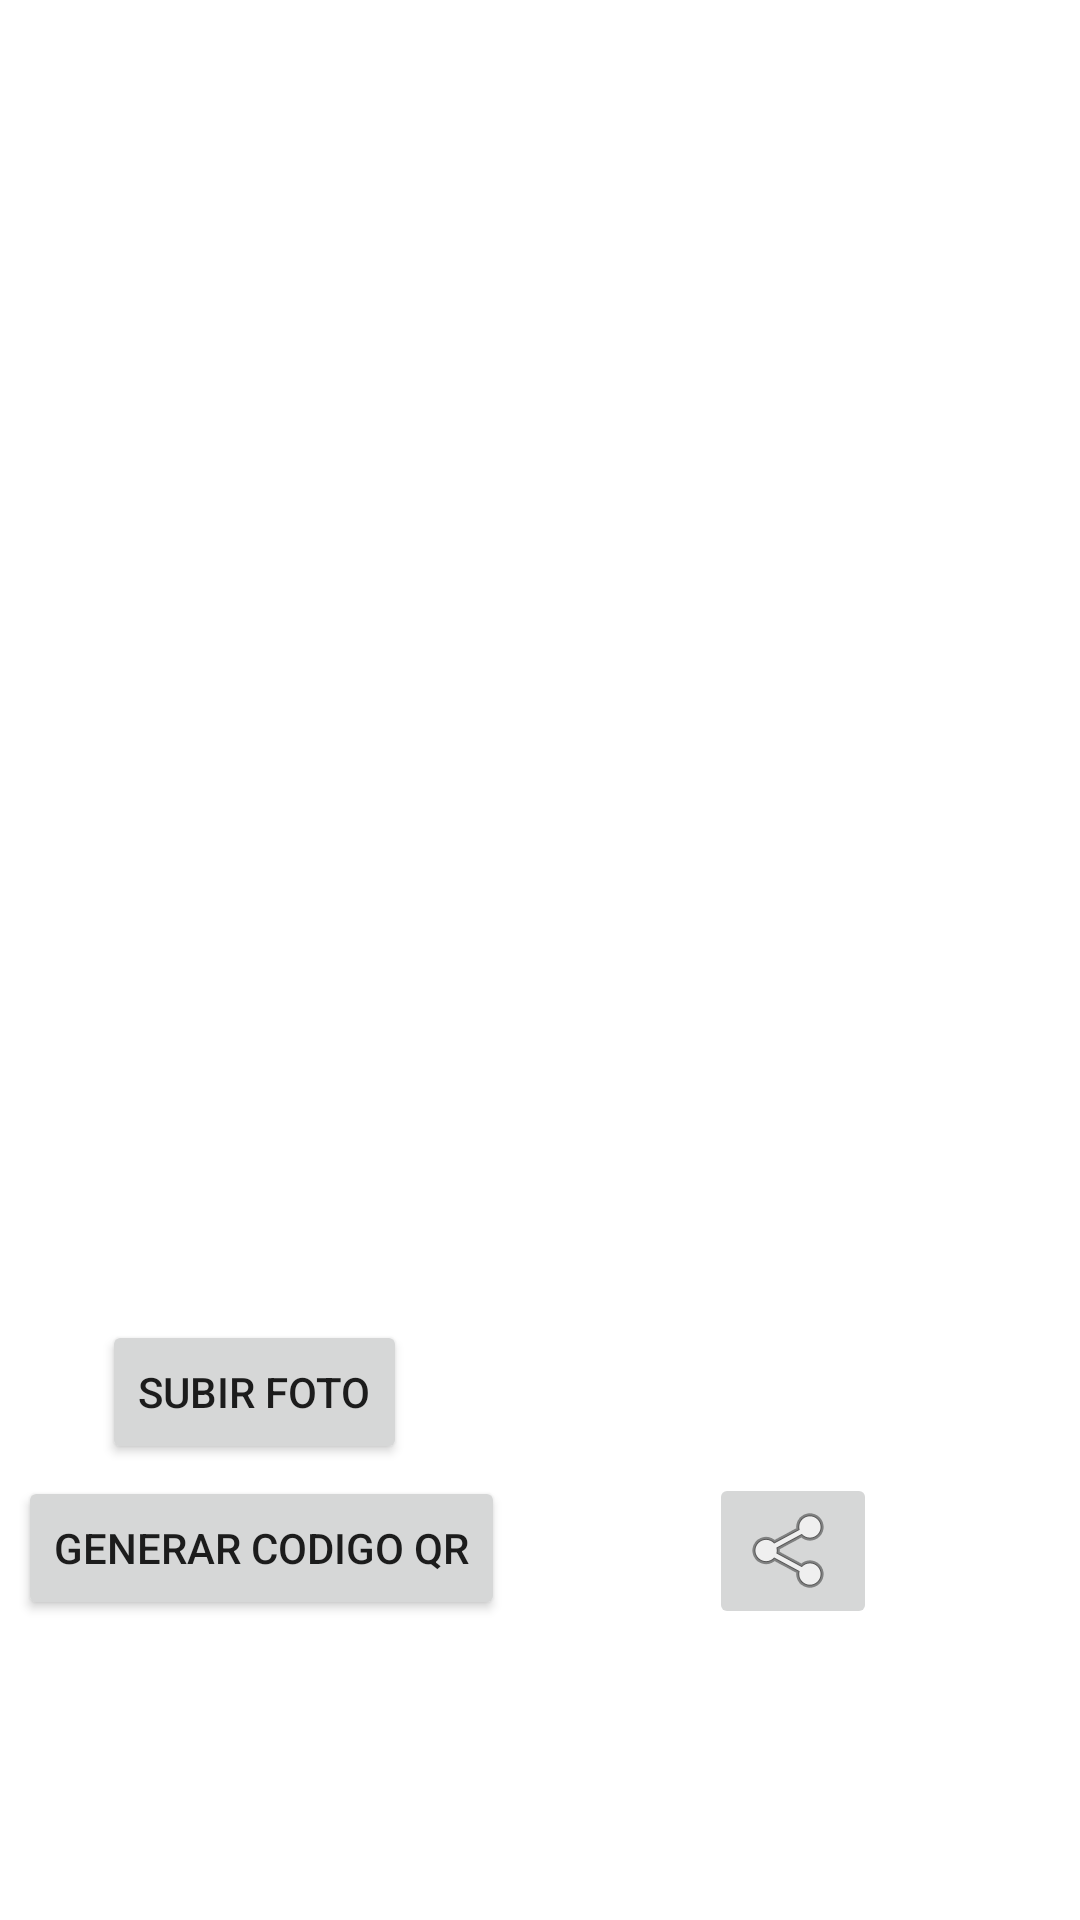

Named icons in this screenshot (1080 × 1920) and their centers, point (x, y):
share: point (793, 1551)
